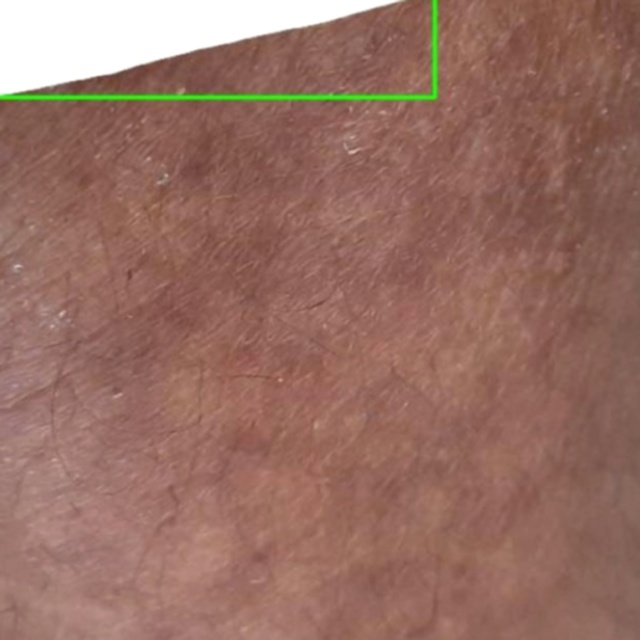Contact Dermatitis: (0, 0, 435, 97)
